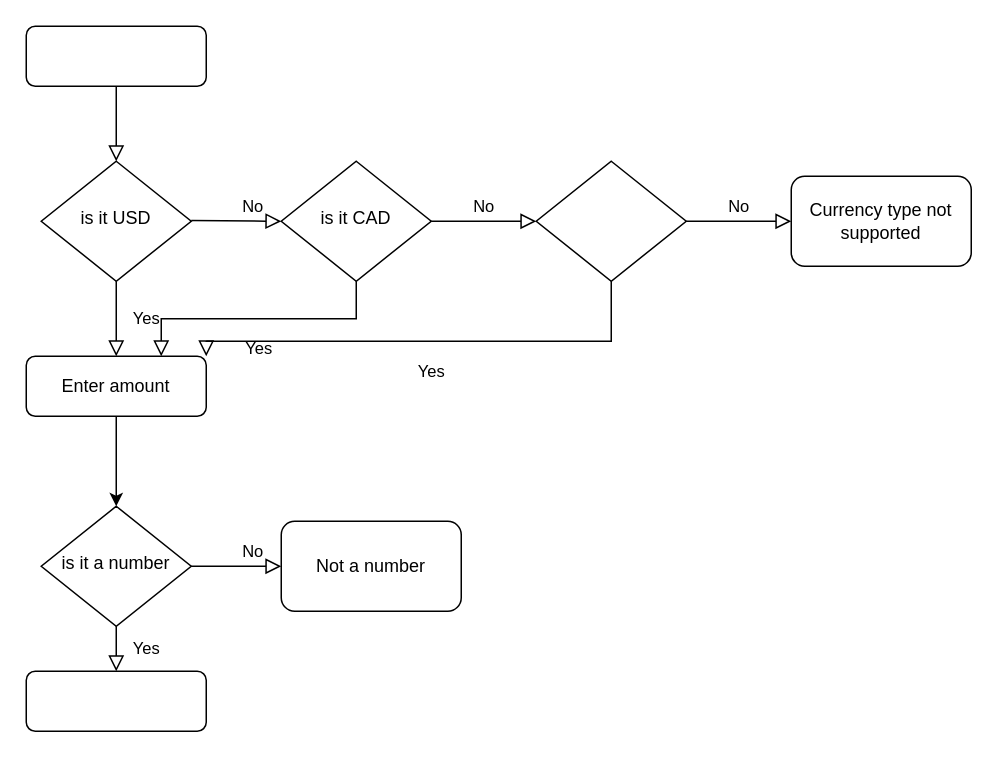
The diagram is 998 pixels wide and 758 high, and some of its shapes have lost their labels. Here are the shapes that lost their labels. From the top down, the box of each, then its label:
(25, 25, 206, 86): Enter a Currency (USD,CAD,EURO)
(535, 160, 686, 281): is it EURO
(25, 670, 206, 731): Enter Currency type (USD,CAD,EURO)
